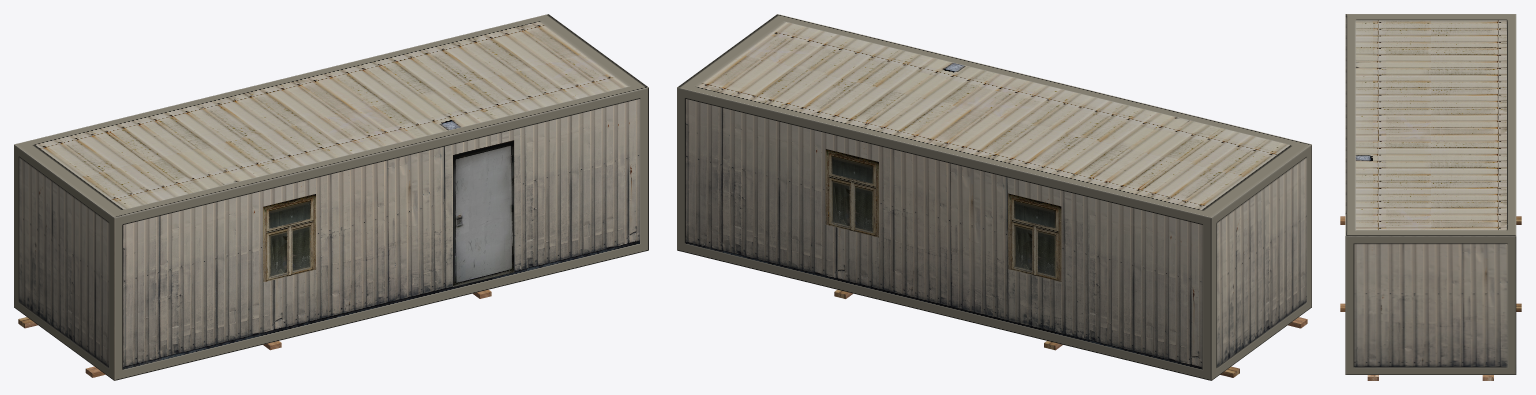
File: ContainerHouse26.FBX
3 views of the same model, side by side, from view 1: azimuth 30°, elevation 25°; view 2: azimuth 150°, elevation 25°; view 3: azimuth 270°, elevation 25° (orthographic). The views are drawn at different scales.
Visible parts, largest first — view 1: ContainerHouse26, ContainerHouse26wood; view 2: ContainerHouse26, ContainerHouse26wood; view 3: ContainerHouse26, ContainerHouse26wood.
Part boxes in pixels (x1=…): ContainerHouse26: x1=14, y1=14, x2=648, y2=380; ContainerHouse26wood: x1=18, y1=289, x2=491, y2=377; ContainerHouse26: x1=677, y1=14, x2=1311, y2=380; ContainerHouse26wood: x1=834, y1=289, x2=1307, y2=377; ContainerHouse26: x1=1345, y1=14, x2=1516, y2=374; ContainerHouse26wood: x1=1340, y1=216, x2=1521, y2=380.
Size of the model in its own units: 372 by 109 by 125.
